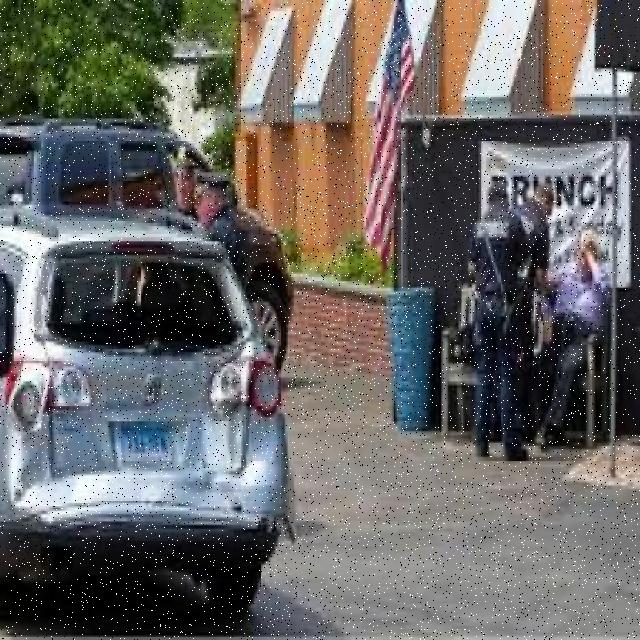damage: (1, 242, 283, 529)
